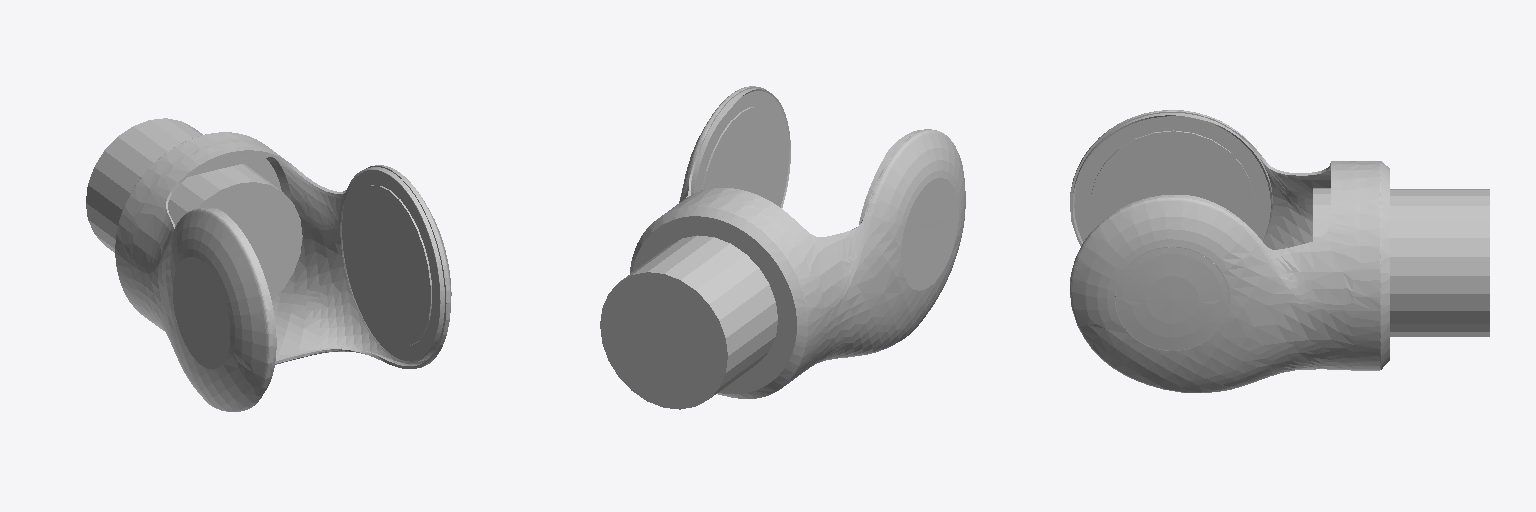
Rendered from right_shoulder_roll_link_visuals.obj.
The picture shows the model from 3 angles: view 1: azimuth 30°, elevation 25°; view 2: azimuth 150°, elevation 25°; view 3: azimuth 270°, elevation 25°; orthographic projection.
Size of the model in its own units: 0.0812 by 0.0729 by 0.1366.